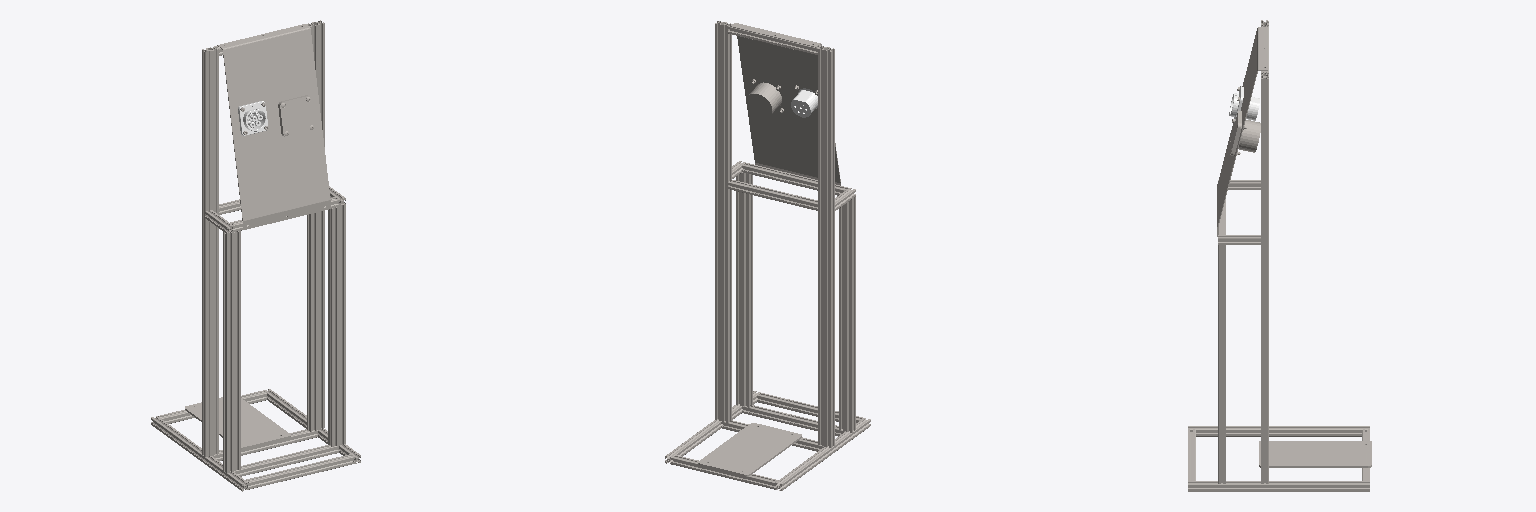
robot.urdf — EV_car_sim:
<?xml version="1.0" encoding="utf-8"?>
<!-- This URDF was automatically created by SolidWorks to URDF Exporter! Originally created by [author] ([email redacted]) 
     Commit Version: 1.6.0-1-g15f4949  Build Version: 1.6.7594.29634
     For more information, please see http://wiki.ros.org/sw_urdf_exporter -->
<robot
  name="EV_car_sim" >

    <!-- Include materials -->
    <material name="Black">
      <color rgba="0.0 0.0 0.0 1.0"/>
    </material>

    <!-- ///////////////////////////////////////////////////////////////////////////////////////////////////////////////////// -->
    <link
      name="socket_base_link">
      <inertial>
        <origin
          xyz="0.17350387847779 0.163692597540571 0.614502409926758"
          rpy="0 0 0" />
        <mass
          value="4.33972430484974" />
        <inertia
          ixx="0.125837823228649"
          ixy="-1.48468788241609E-05"
          ixz="-6.07005840786139E-05"
          iyy="0.130752623249532"
          iyz="-0.00861291010203489"
          izz="0.0218275161143977" />
      </inertial>
      <visual>
        <origin
          xyz="0 0 0"
          rpy="0 0 0" />
        <geometry>
          <mesh
            filename="package://mue_description/meshes/EV_car_sim/socket_base_link.STL" />
        </geometry>
        <material
          name="">
          <color
            rgba="0.776470588235294 0.756862745098039 0.737254901960784 1" />
        </material>
      </visual>
      <collision>
        <origin
          xyz="0 0 0"
          rpy="0 0 0" />
        <geometry>
          <mesh
            filename="package://mue_description/meshes/EV_car_sim/socket_base_link.STL" />
        </geometry>
      </collision>
    </link>

    
    <link
      name="socket_link">
      <inertial>
        <origin
          xyz="-0.00108149328178603 2.08744133090022E-12 -0.0341394266603848"
          rpy="0 0 0" />
        <mass
          value="0.135867089026748" />
        <inertia
          ixx="8.51213982846984E-05"
          ixy="-6.98001729404442E-15"
          ixz="-5.21933790018774E-07"
          iyy="8.13932734494906E-05"
          iyz="2.66712970845751E-15"
          izz="7.97111432829492E-05" />
      </inertial>
      <visual>
        <origin
          xyz="0 0 0"
          rpy="0 0 0" />
        <geometry>
          <mesh
            filename="package://mue_description/meshes/EV_car_sim/socket_link.STL" />
        </geometry>
        <material
          name="">
          <color
            rgba="1 1 1 1" />
        </material>
      </visual>
      <collision>
        <origin
          xyz="0 0 0"
          rpy="0 0 0" />
        <geometry>
          <mesh
            filename="package://mue_description/meshes/EV_car_sim/socket_link.STL" />
        </geometry>
      </collision>
    </link>
    <joint
      name="socket_joint"
      type="fixed">
      <origin
        xyz="0.105000000000015 0.109357252306537 0.944666637216478"
        rpy="0 -1.34390352403563 1.57079632679472" />
      <parent
        link="socket_base_link" />
      <child
        link="socket_link" />
      <axis
        xyz="0 0 0" />
    </joint>
</robot>

--- What the picture shows (computed from the rendered views, not written in the file) ---
Views: 3 orthographic renders of the robot side by side, from view 1: azimuth 30°, elevation 25°; view 2: azimuth 150°, elevation 25°; view 3: azimuth 270°, elevation 25°.
Robot: EV_car_sim — 2 links, 1 joints (1 fixed); root link socket_base_link; default pose: all joints at 0.
Links seen in each view (by area): view 1: socket_base_link, socket_link; view 2: socket_base_link, socket_link; view 3: socket_base_link.
Boxes of the visible links, x1,y1,x2,y2 form: socket_base_link: (151,20,360,491); socket_link: (238,101,267,135); socket_base_link: (665,21,870,490); socket_link: (791,88,817,117); socket_base_link: (1188,20,1371,491).
Size in the robot's own frame: 0.34 by 0.455 by 1.12 metres.
Meshes: 2 distinct files referenced, 2 mesh visuals loaded (2 binary STL).
